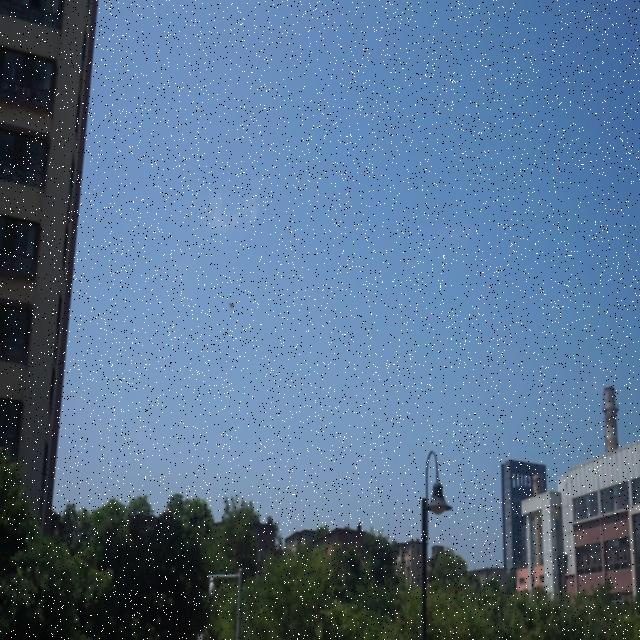UAV: (228, 302, 236, 310)
